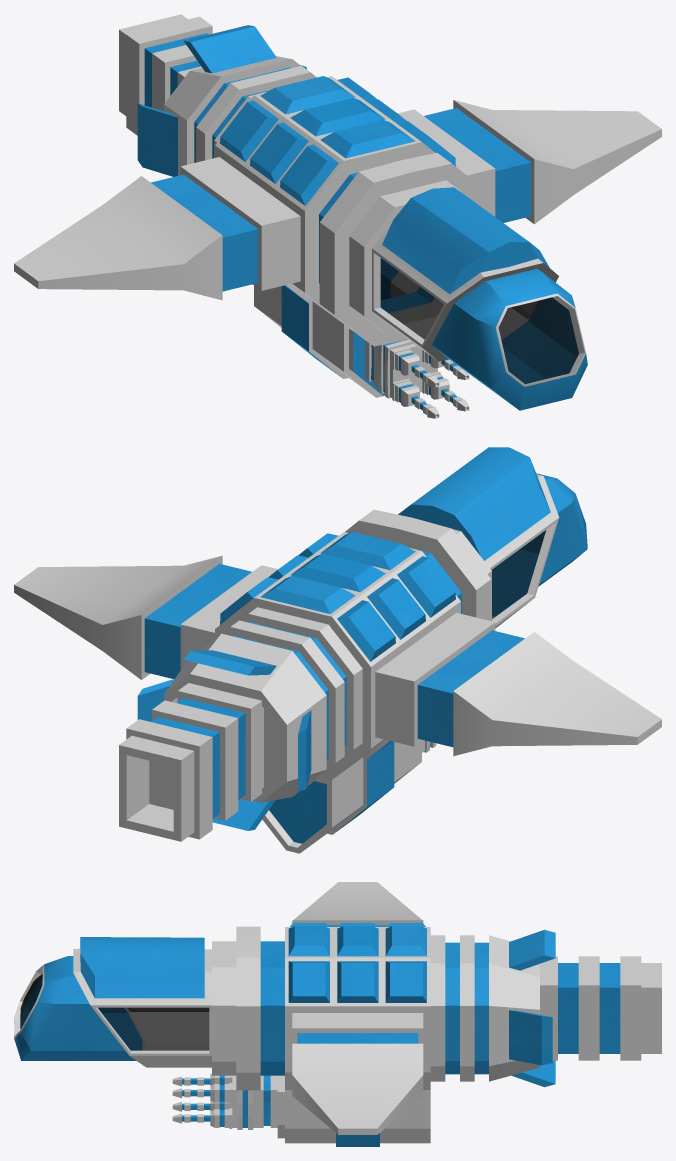
File: BBC.fbx
3 renders of one model, top to bottom at view 1: azimuth 30°, elevation 25°; view 2: azimuth 150°, elevation 25°; view 3: azimuth 270°, elevation 25°, orthographic. The views are drawn at different scales.
Parts seen in each view (by area): view 1: BBC; view 2: BBC; view 3: BBC.
Part boxes in pixels (<box>): BBC: <box>14,14,661,418</box>; BBC: <box>14,447,661,853</box>; BBC: <box>14,882,661,1146</box>.
Bounding box in the file's own units: 8 × 3.15 × 8.89.
